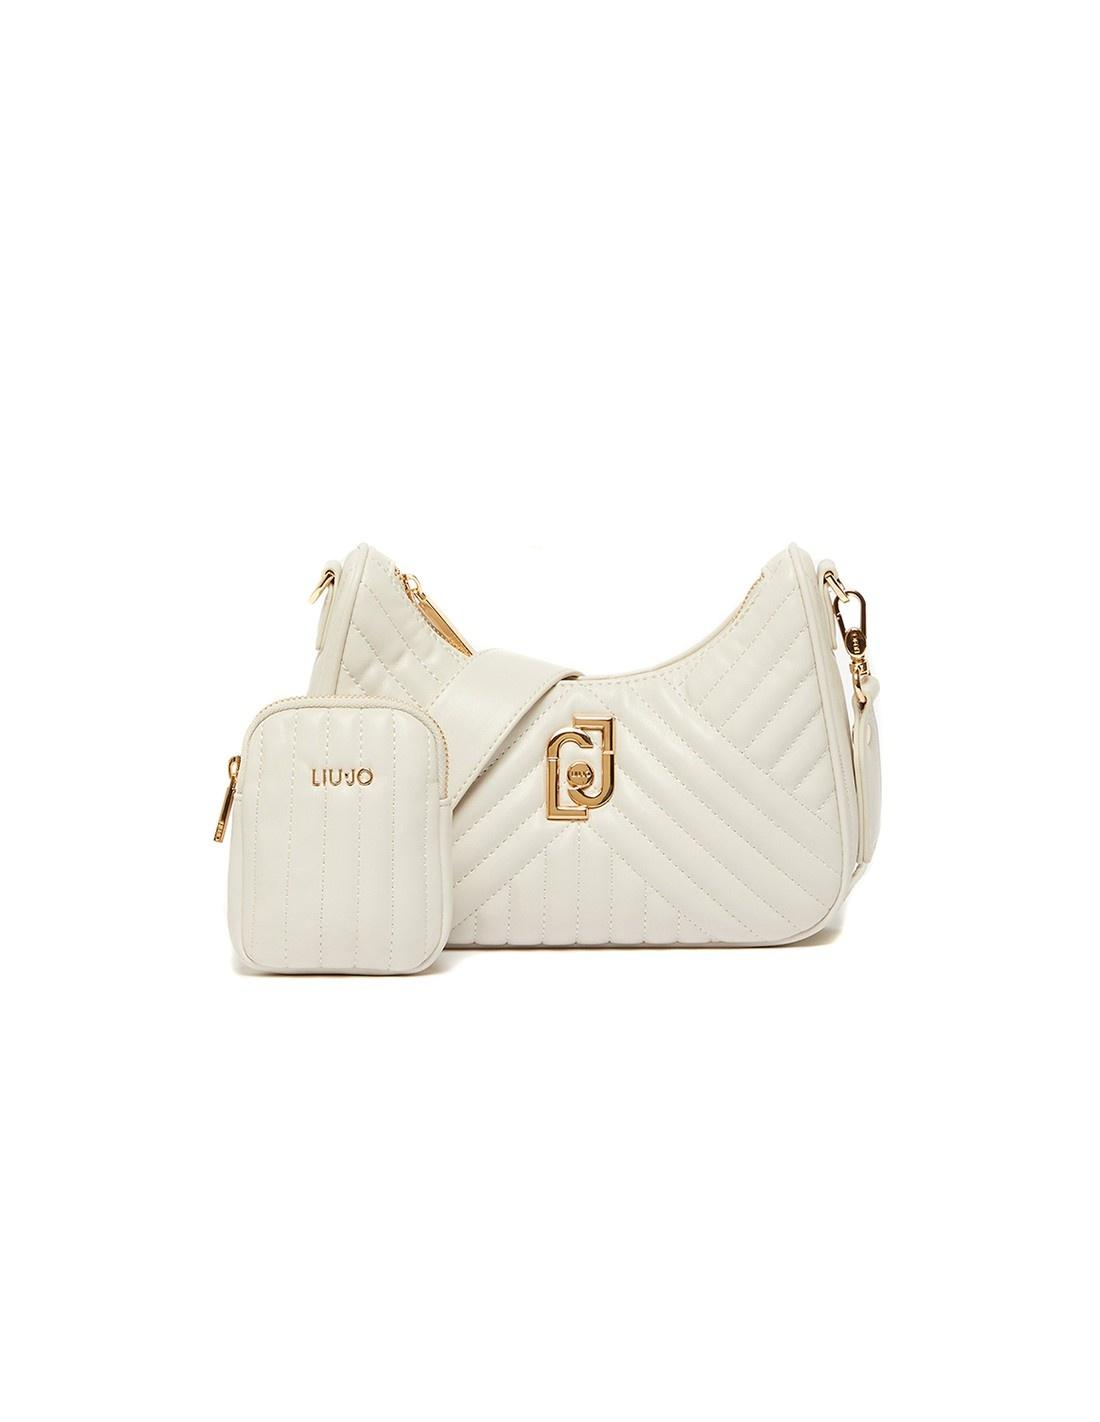LIU-JO: (546, 714, 616, 821)
